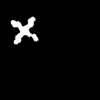single_crochet: (11, 17, 37, 43)
